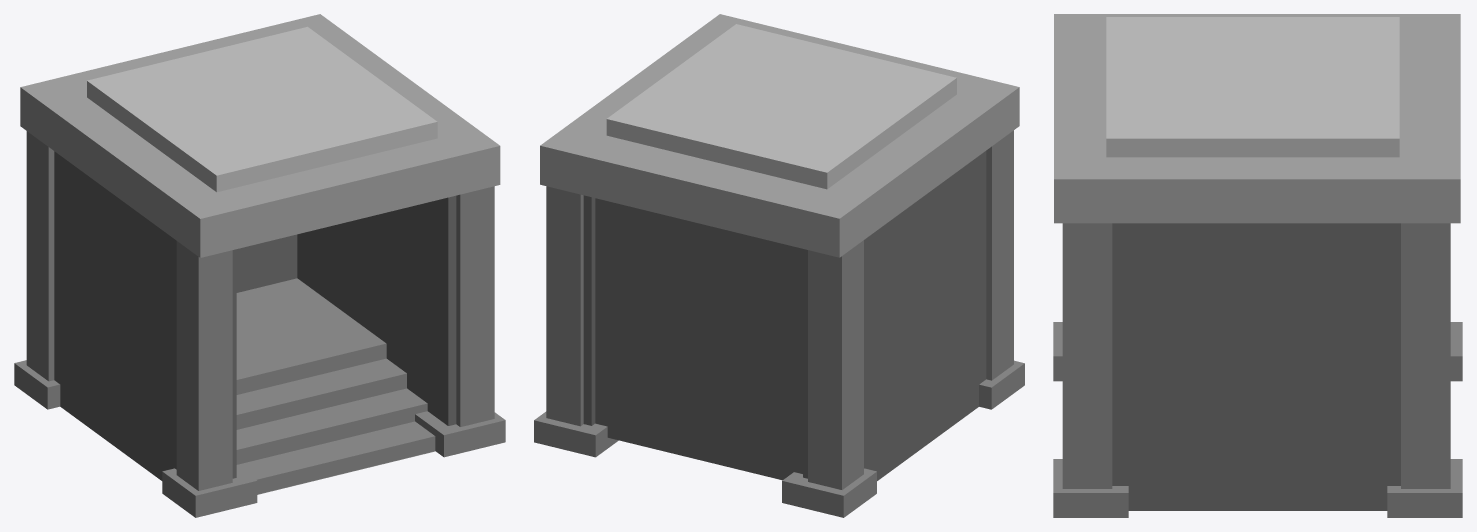
File: Dungeon Stairs Exit 01.FBX
The picture shows the model from 3 angles, left to right: view 1: azimuth 30°, elevation 25°; view 2: azimuth 150°, elevation 25°; view 3: azimuth 270°, elevation 25°; orthographic projection. The views are drawn at different scales.
Visible parts, largest first — view 1: Dungeon Stairs Exit 01; view 2: Dungeon Stairs Exit 01; view 3: Dungeon Stairs Exit 01.
Part boxes in pixels (x1,y1,x2,y2): Dungeon Stairs Exit 01: [14, 14, 505, 517]; Dungeon Stairs Exit 01: [534, 14, 1024, 517]; Dungeon Stairs Exit 01: [1053, 14, 1462, 517].
Bounding box in the file's own units: 435 × 421 × 441.
